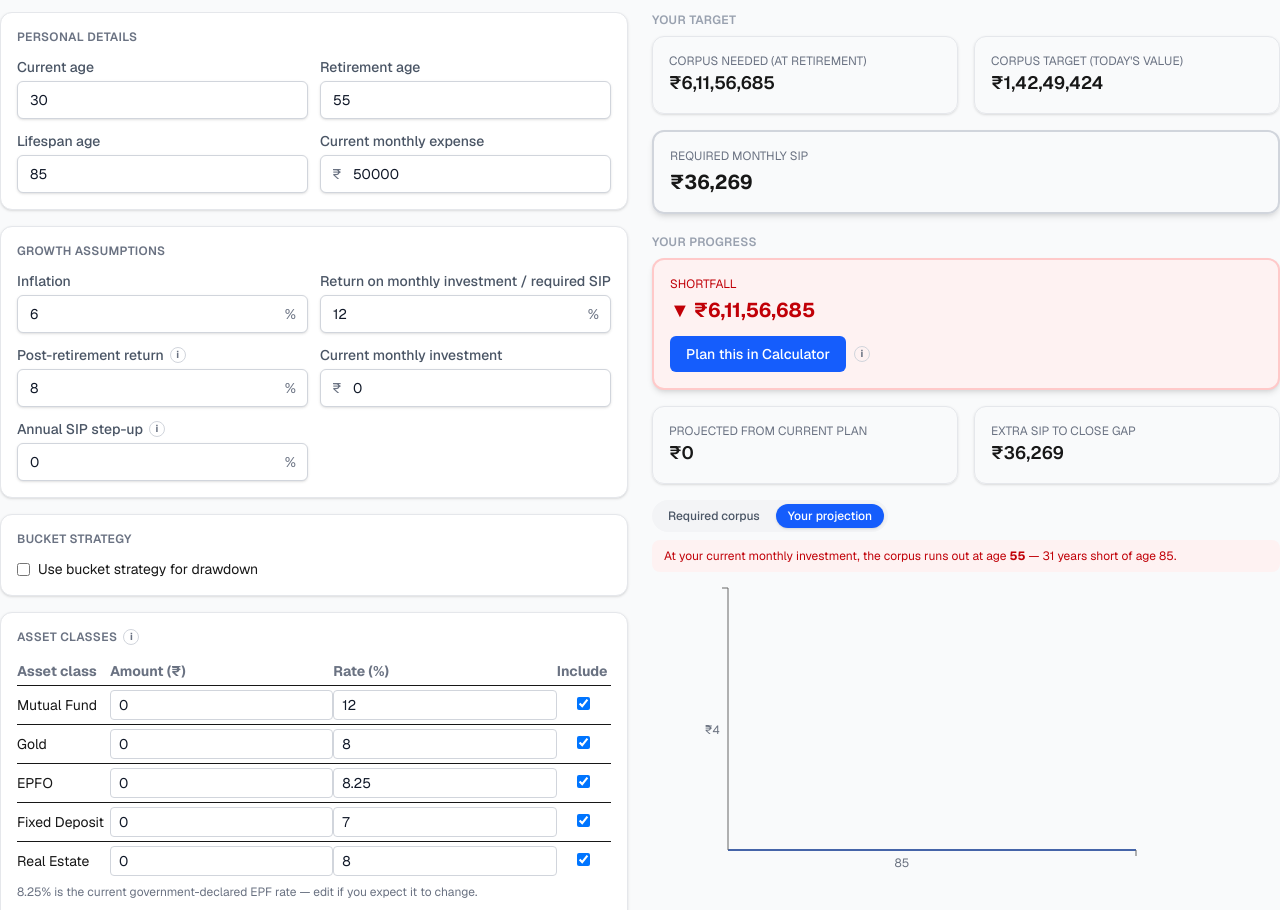
Test case: RetirementTab › shows a warning instead of ₹0 metrics when lifespan age <= retirement age
Replace the text in the number field labelled "Lifespan age" with "50". click: (162,174)
box: [17,155,308,193]
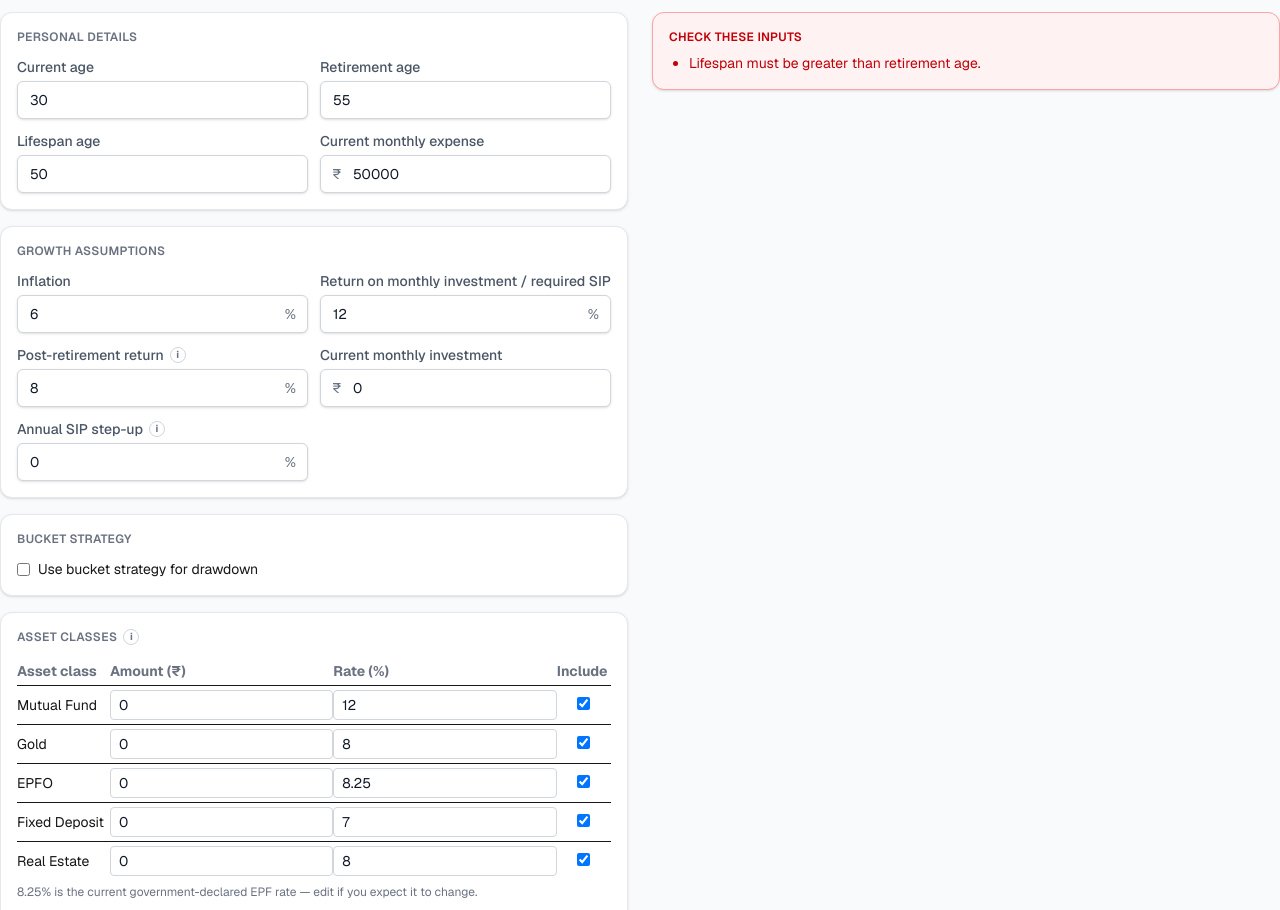
Result: the list item "Lifespan must be greater than retirement age." is shown at [689,54,981,72]
Result: the text "Extra SIP to close gap" is gone
